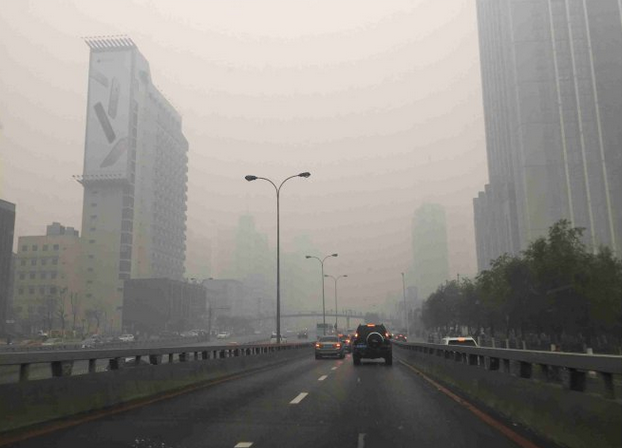bus: (315, 322, 333, 339)
car: (348, 324, 395, 366), (438, 337, 482, 368), (312, 334, 345, 360), (331, 332, 351, 355), (41, 337, 64, 349), (15, 337, 37, 349), (81, 339, 104, 349), (179, 329, 201, 338), (119, 333, 135, 344), (394, 331, 408, 343), (295, 328, 308, 339), (217, 330, 232, 339), (157, 329, 172, 338)
